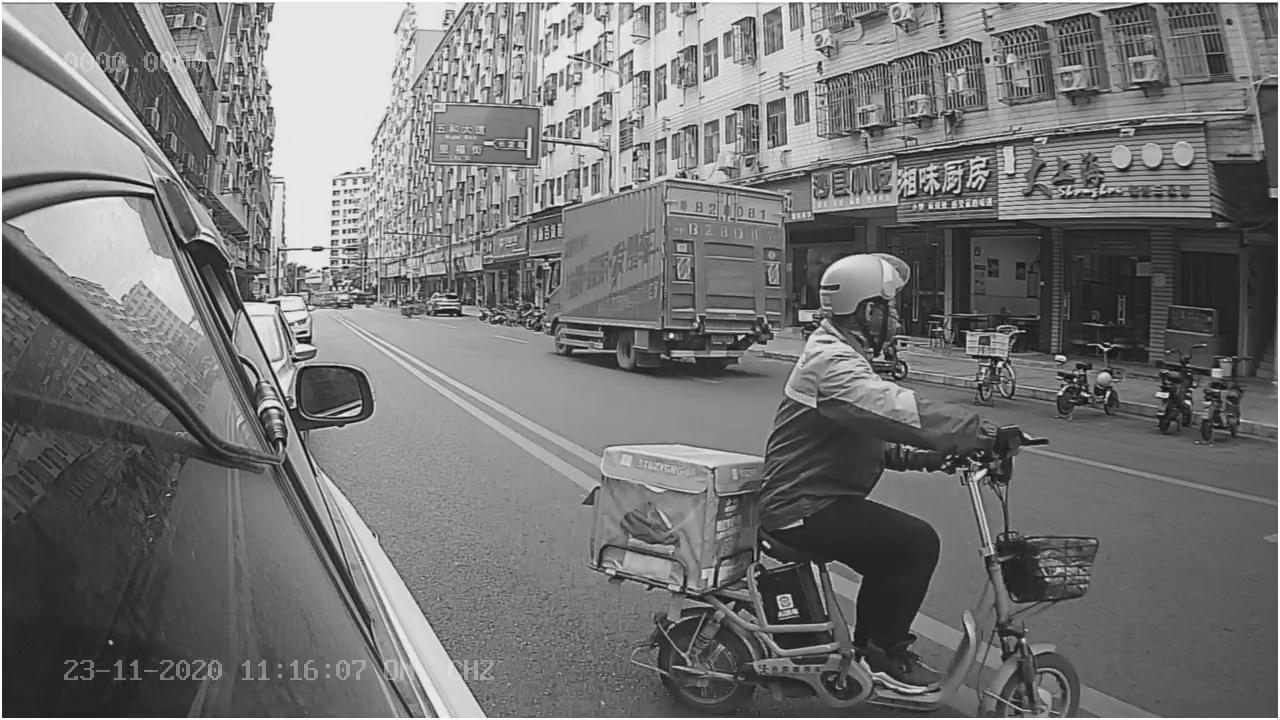person: (768, 247, 1029, 436)
